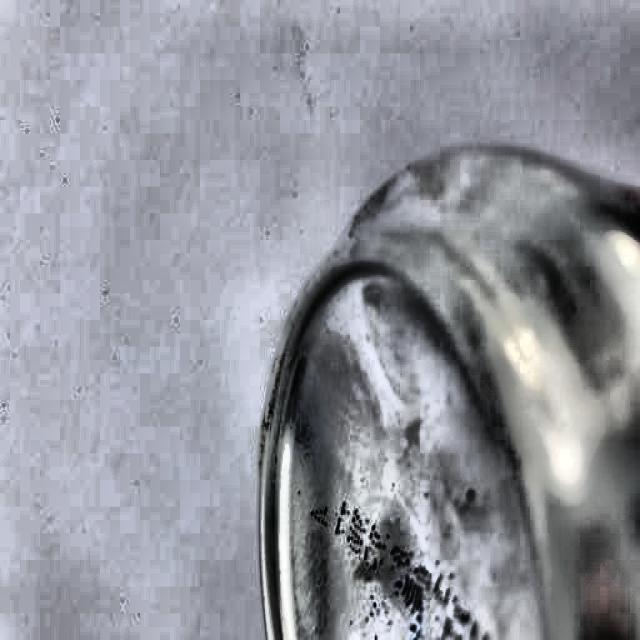metal: (255, 159, 640, 640)
